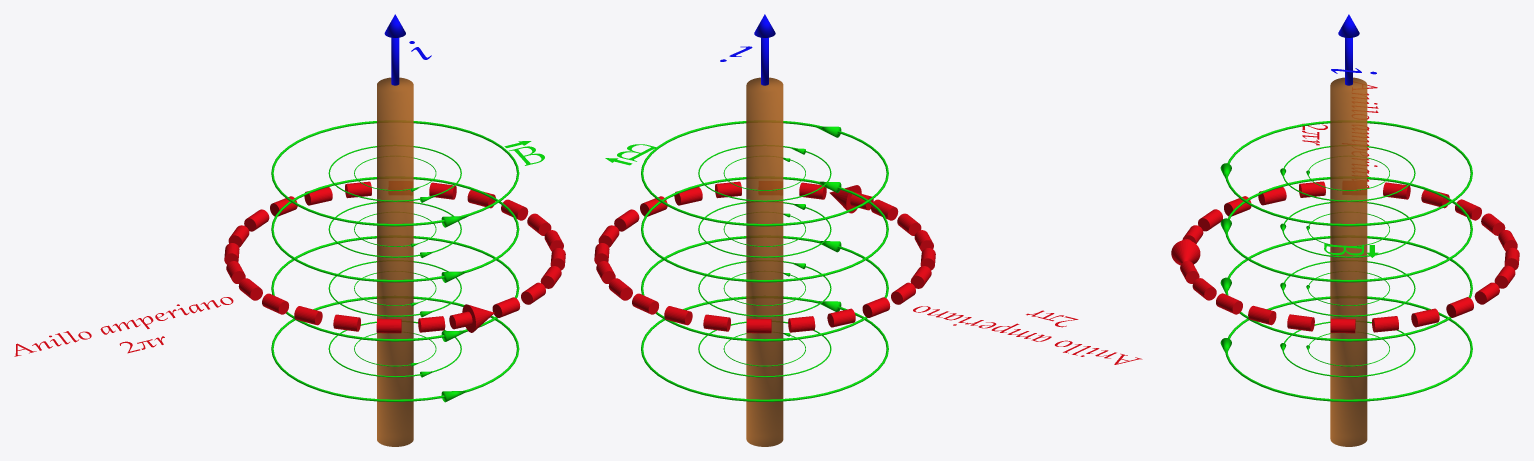
Rendered from alambre-recto.dae.
The picture shows the model from 3 angles, left to right: view 1: azimuth 30°, elevation 25°; view 2: azimuth 150°, elevation 25°; view 3: azimuth 270°, elevation 25°; orthographic projection.
Parts seen in each view (by area): view 1: Alambre-recto; view 2: Alambre-recto; view 3: Alambre-recto.
Part boxes in pixels (x1,y1,x2,y2): Alambre-recto: (14,14,565,446); Alambre-recto: (594,14,1142,446); Alambre-recto: (1171,14,1519,446).
Bounding box in the file's own units: 14.92 × 8.54 × 11.49.
